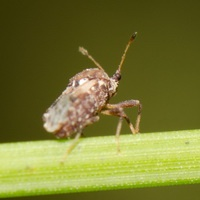insect: (43, 32, 141, 162)
